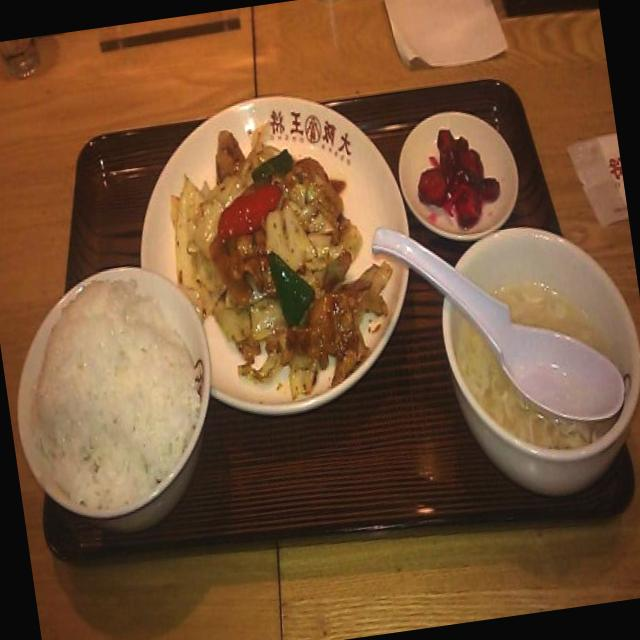Rice: (7, 264, 210, 526)
